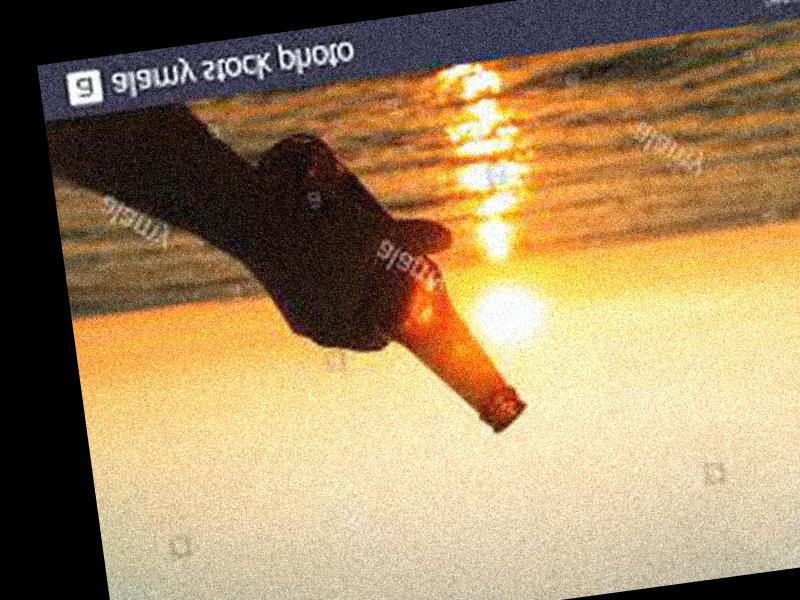Beer: (245, 108, 528, 466)
